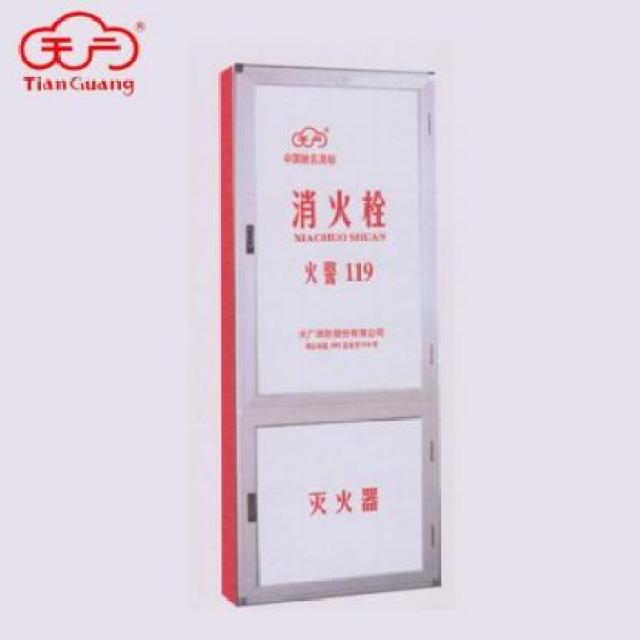firehydrant: (214, 58, 449, 612)
